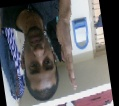hand: (54, 16, 78, 90)
